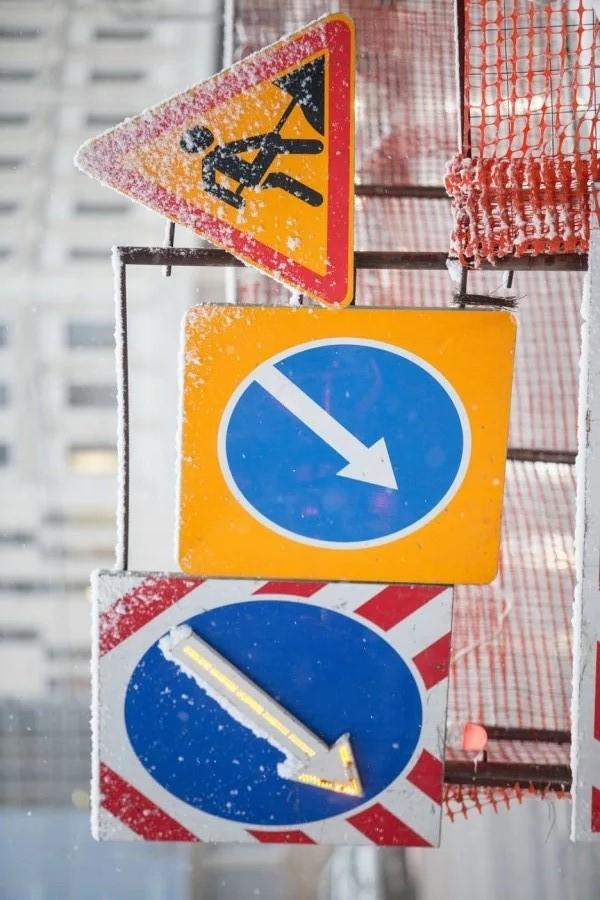obstructed_road_sign: (88, 568, 454, 850), (75, 9, 355, 311)
road_sign: (176, 303, 515, 587)
